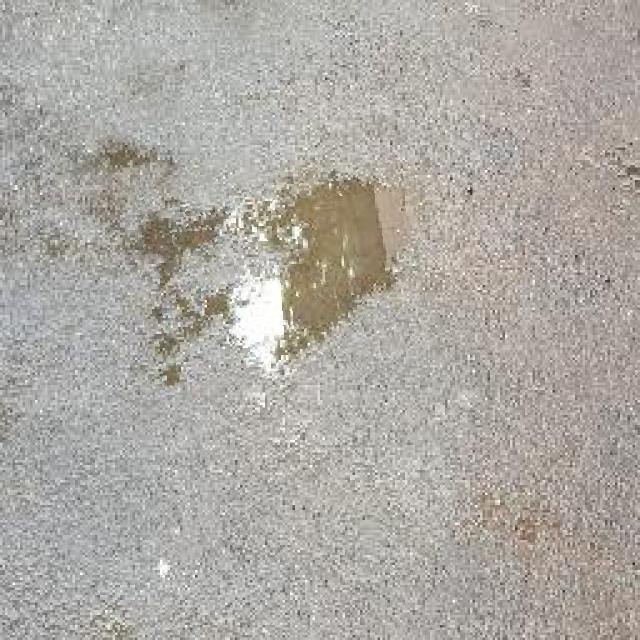puddle: (139, 167, 426, 386)
